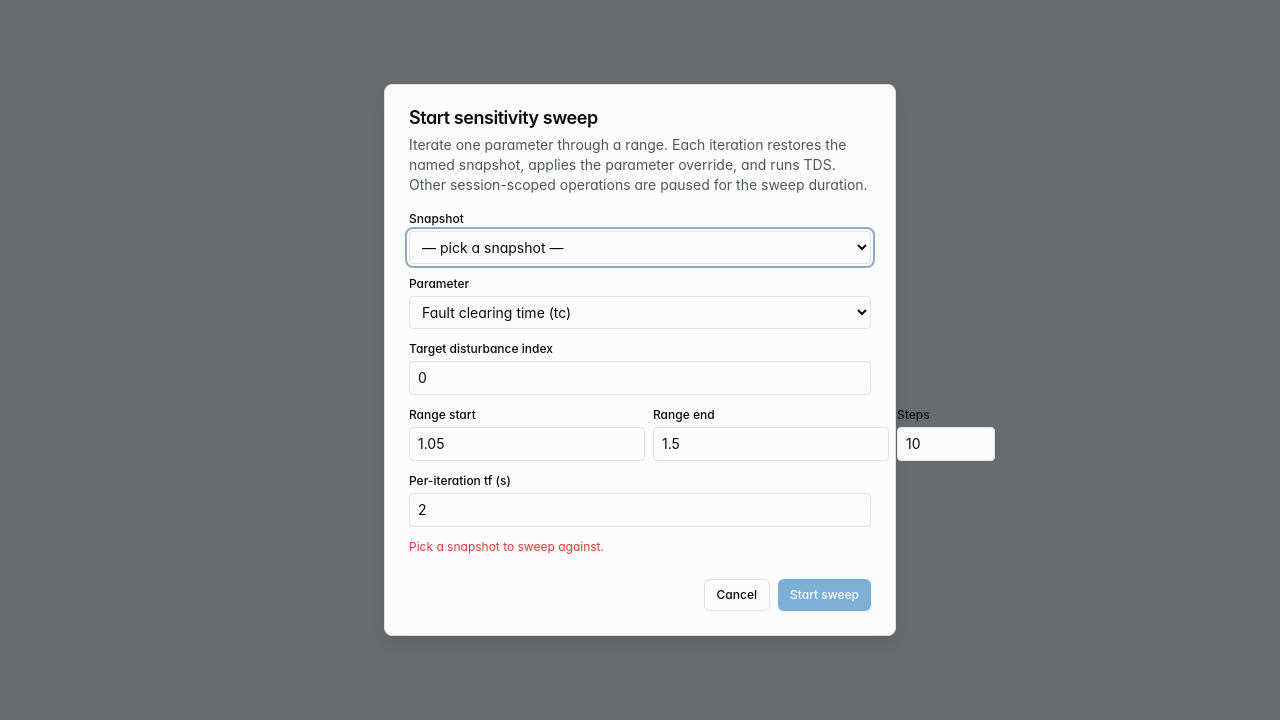
<SweepDialog /> — Run-readiness gates (v2.0 polish, Unit 4) › confirm is disabled with a "No case loaded." tooltip when no case is loaded
Expected: the dialog with test id "sweep-dialog" is shown, [384,84,896,636]
Hover over the element showing "Start sweep" at {"x": 824, "y": 595}, box [778,579,871,611]
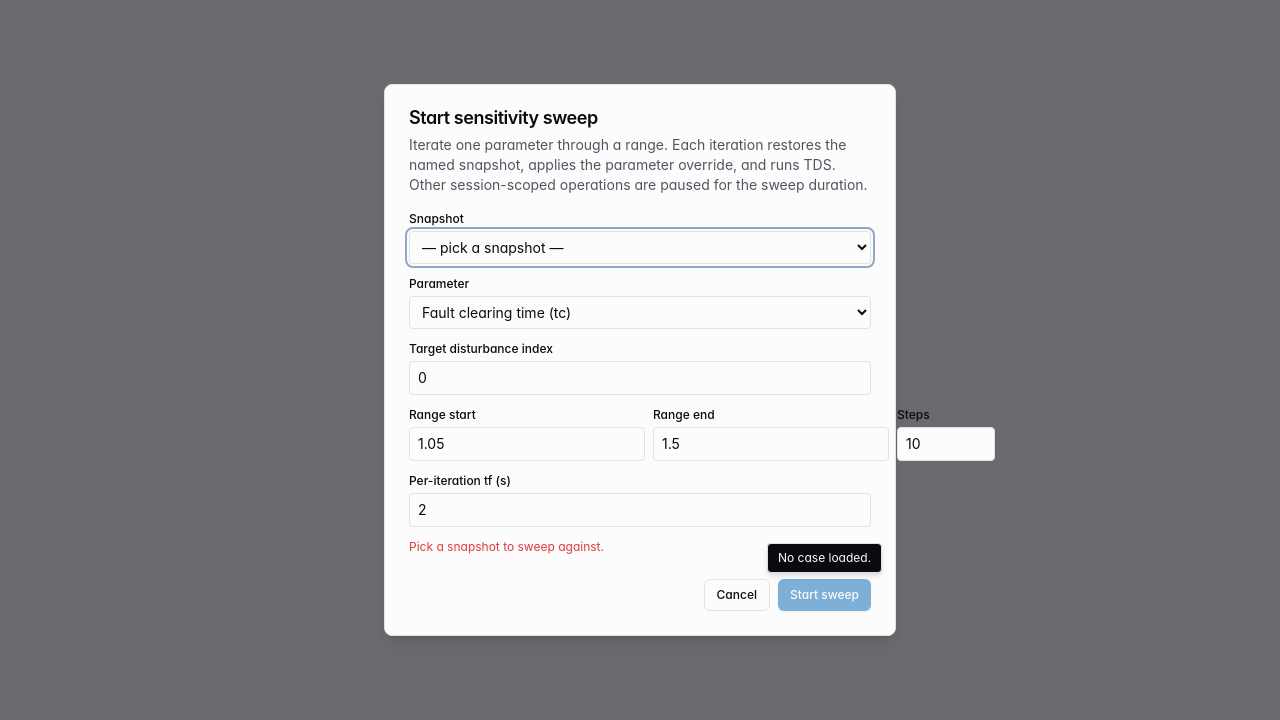
Expected: the tooltip "No case loaded." is shown, [767,543,882,573]
